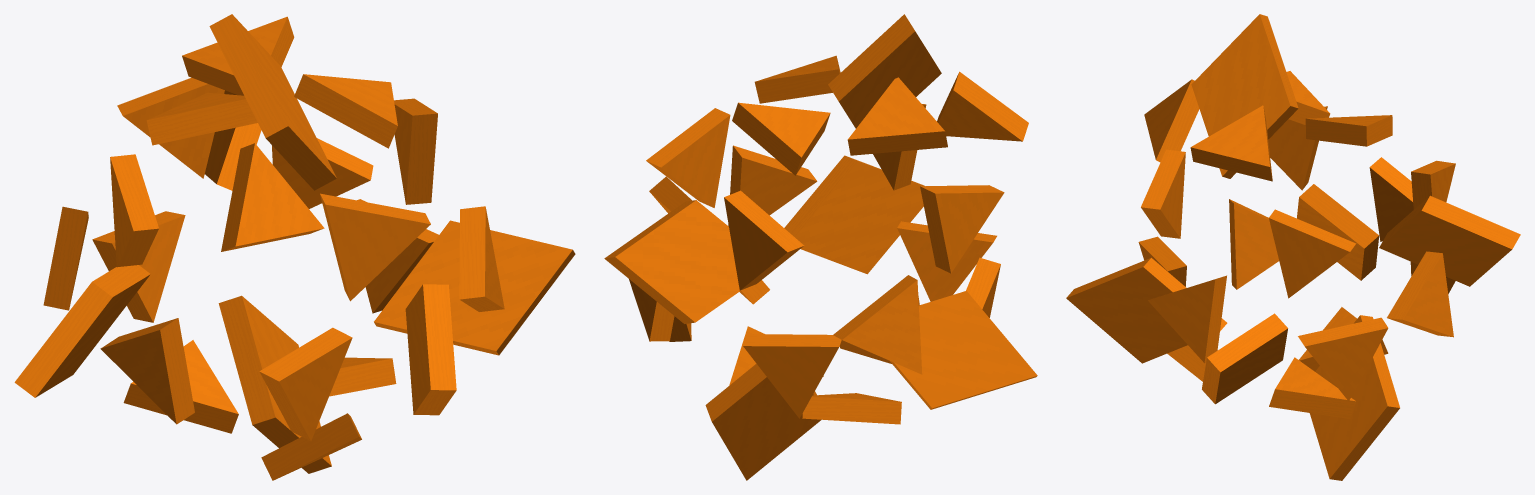
File: qondo_rich.obj
3 renders of one model, left to right at view 1: azimuth 30°, elevation 25°; view 2: azimuth 150°, elevation 25°; view 3: azimuth 270°, elevation 25°, orthographic. The views are drawn at different scales.
Visible parts, largest first — view 1: Cube.002; view 2: Cube.002; view 3: Cube.002.
Boxes of the visible parts, x1,y1,x2,y2 form: Cube.002: (14, 14, 575, 480); Cube.002: (604, 14, 1037, 480); Cube.002: (1066, 14, 1520, 480).
Bounding box in the file's own units: 1.78 × 1.79 × 1.77.
